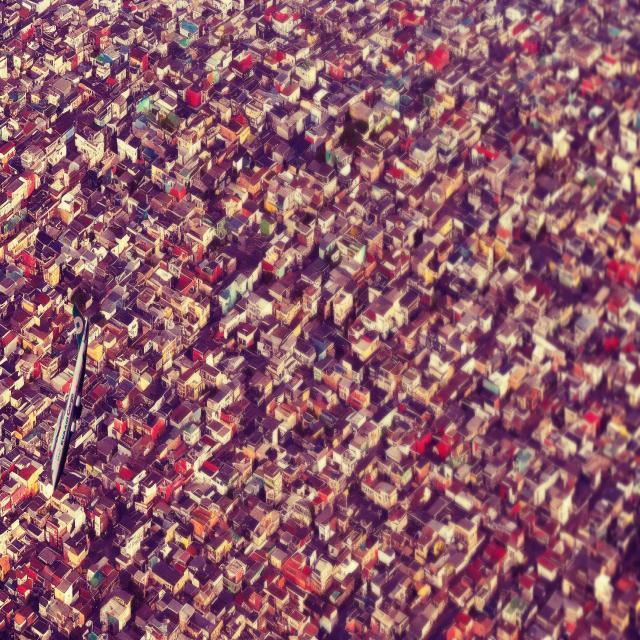airplane: (48, 304, 90, 491)
